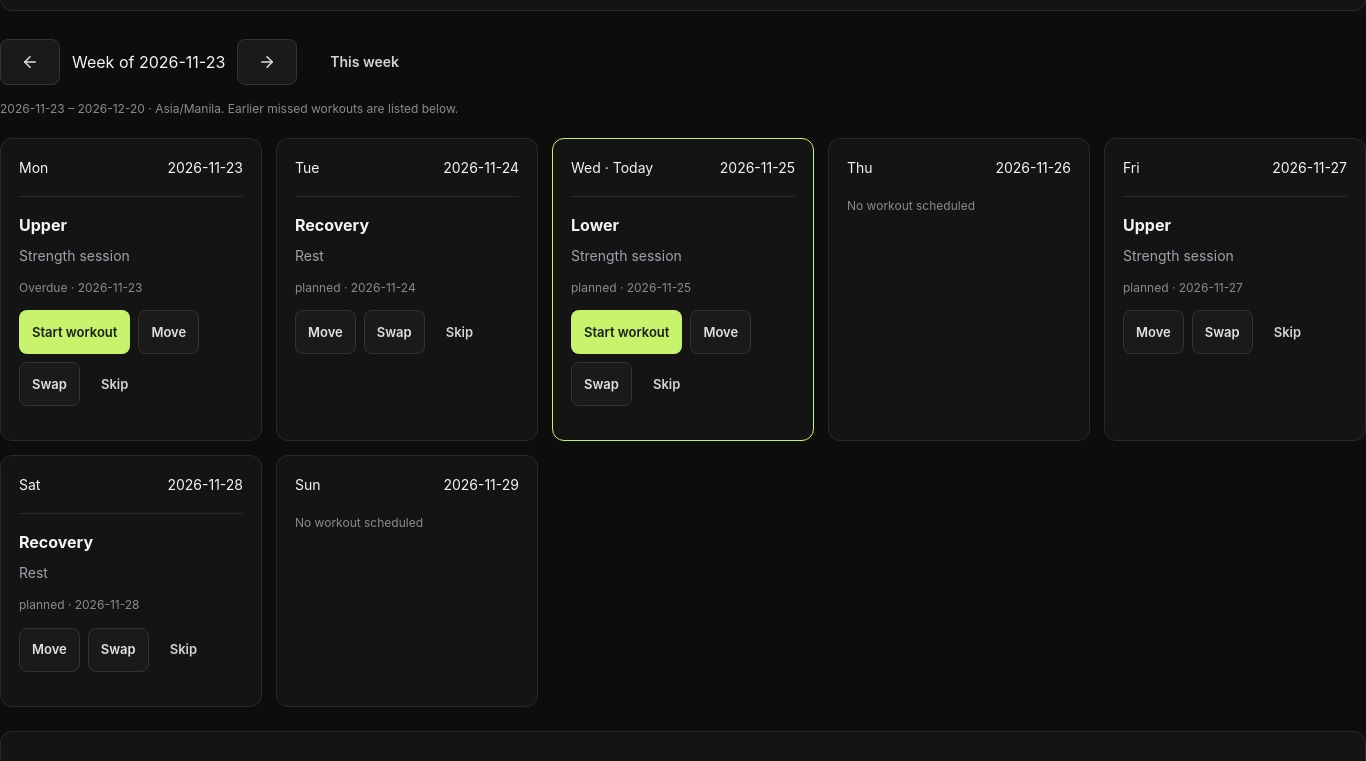
Test: Fixed calendar › requires confirmation to skip and reports a failed save once inside the dialog
(page scrolled)
Click the 3rd button "Skip" at (115, 384), box [88, 362, 141, 406]
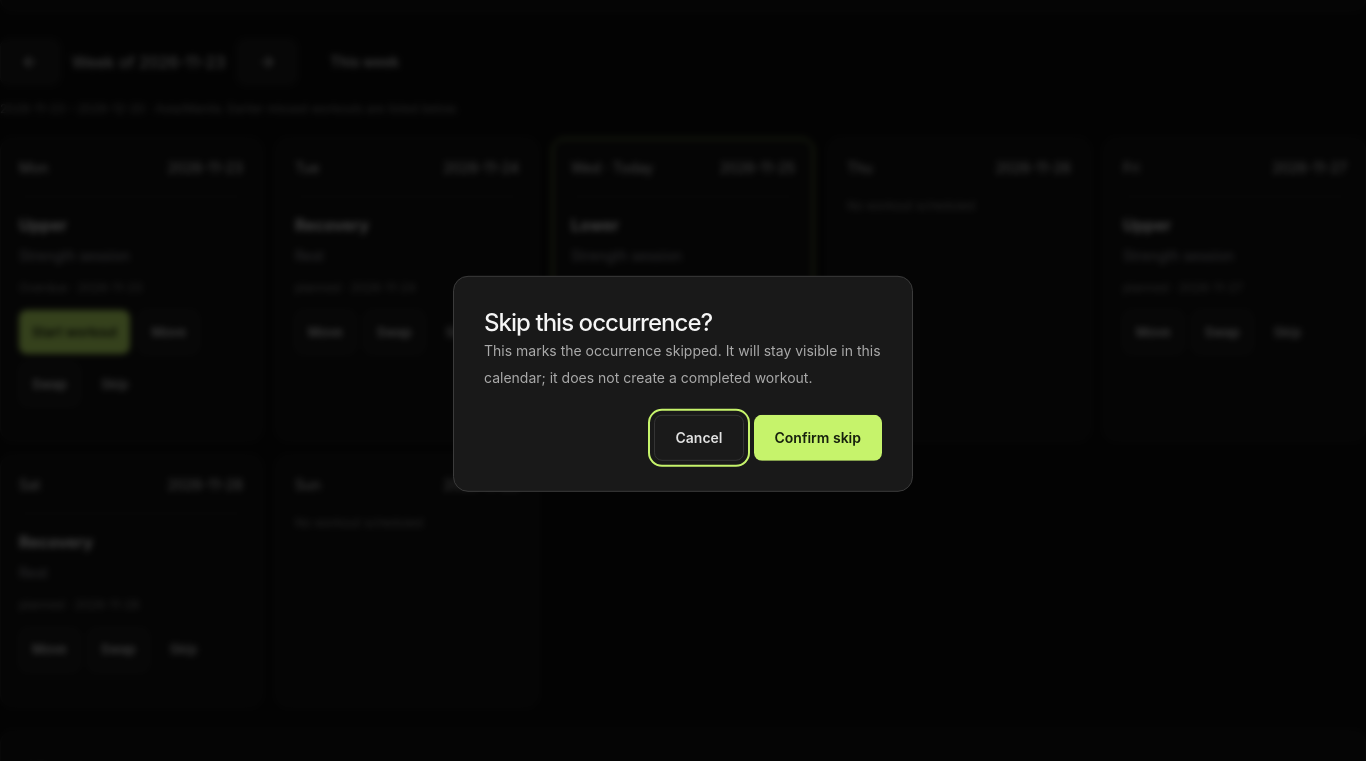
Click the button "Confirm skip" at (818, 438), box [754, 415, 882, 461]
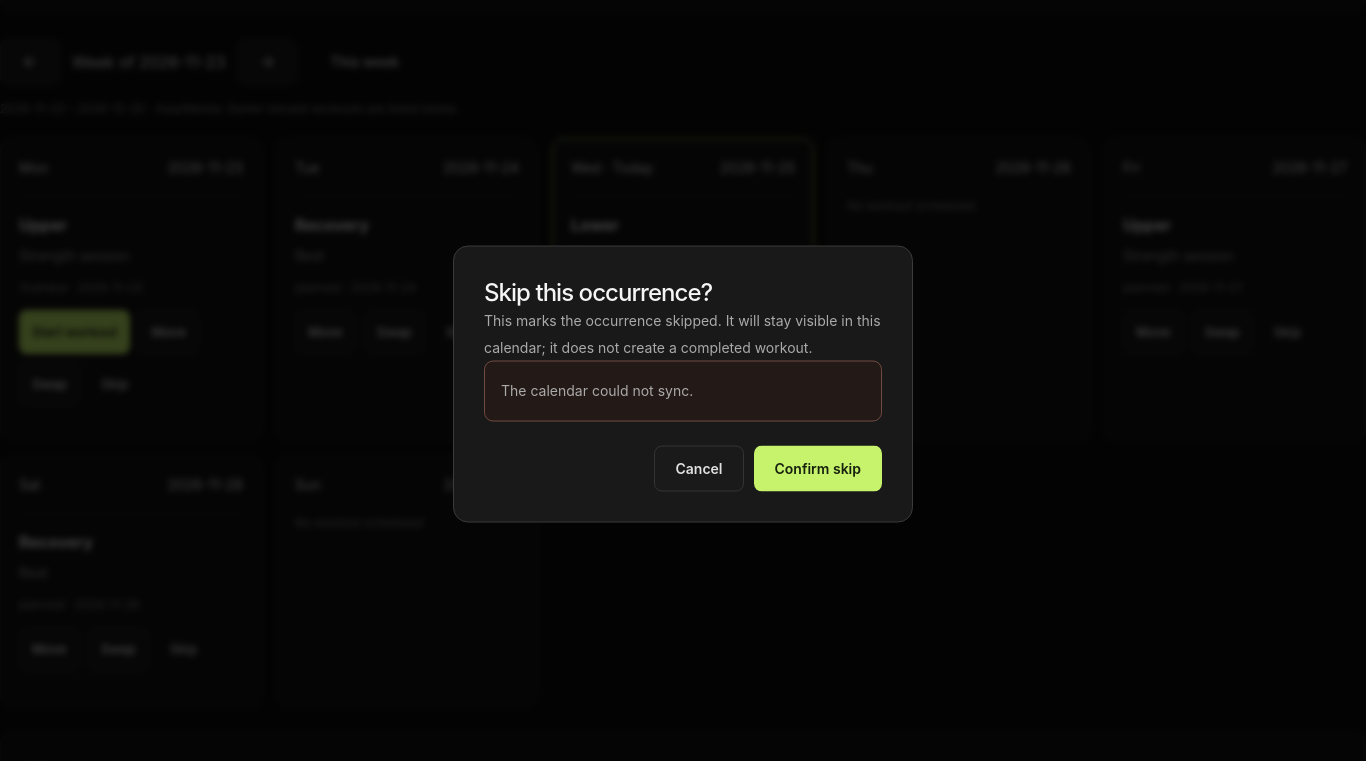
Now the number of messages is 1, box [484, 361, 882, 422]
Now the message reads "The calendar could not sync.", box [501, 382, 693, 399]
